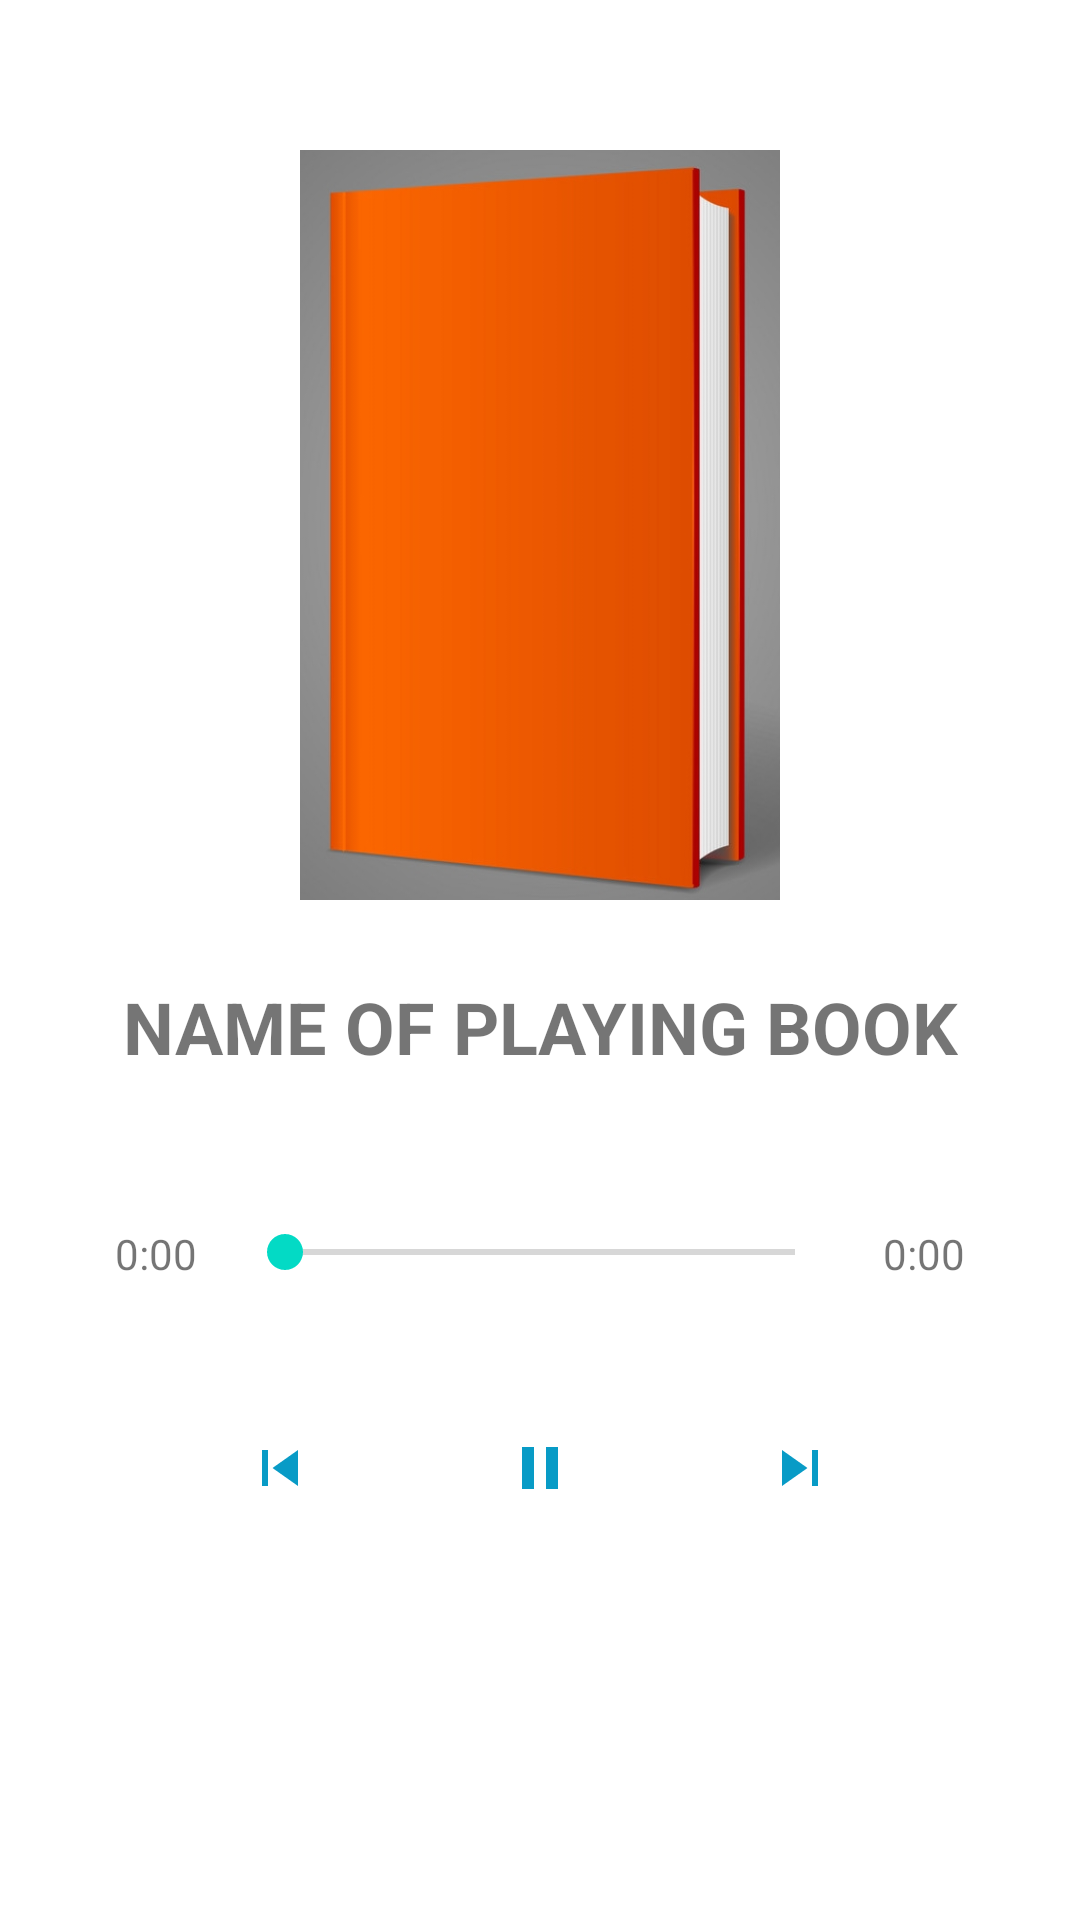

Screen size 1080w x 1920h. Icon name, then its box in pixels as box(x1, y1, x2, y2):
pause: box(522, 1447, 558, 1489)
skip next: box(782, 1450, 818, 1486)
skip previous: box(262, 1450, 298, 1486)
